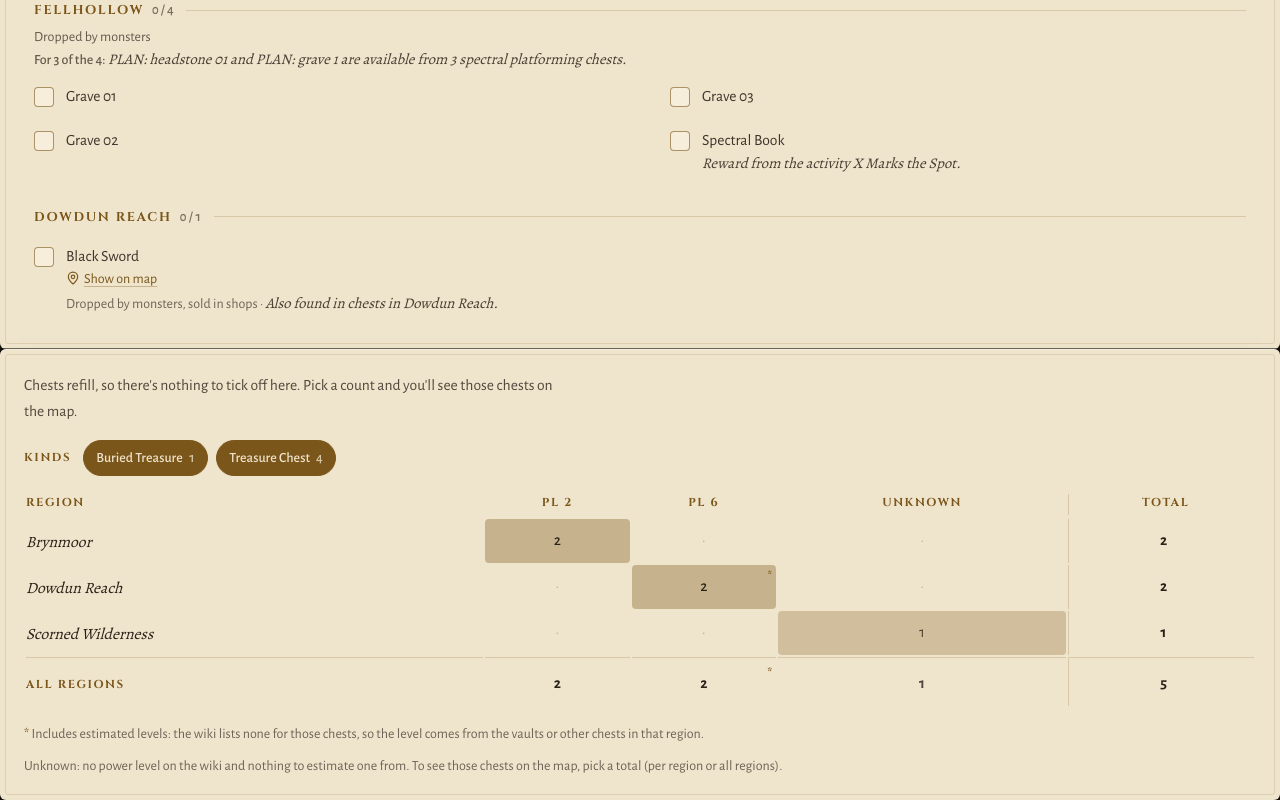
Test: ChestMatrix › counts chest points per region and power level and links to the map
(page scrolled)
// Switch Buried Treasure off: counts and links follow.
Click the button "Buried Treasure 1".
click(146, 458)  # box [83,440,208,476]
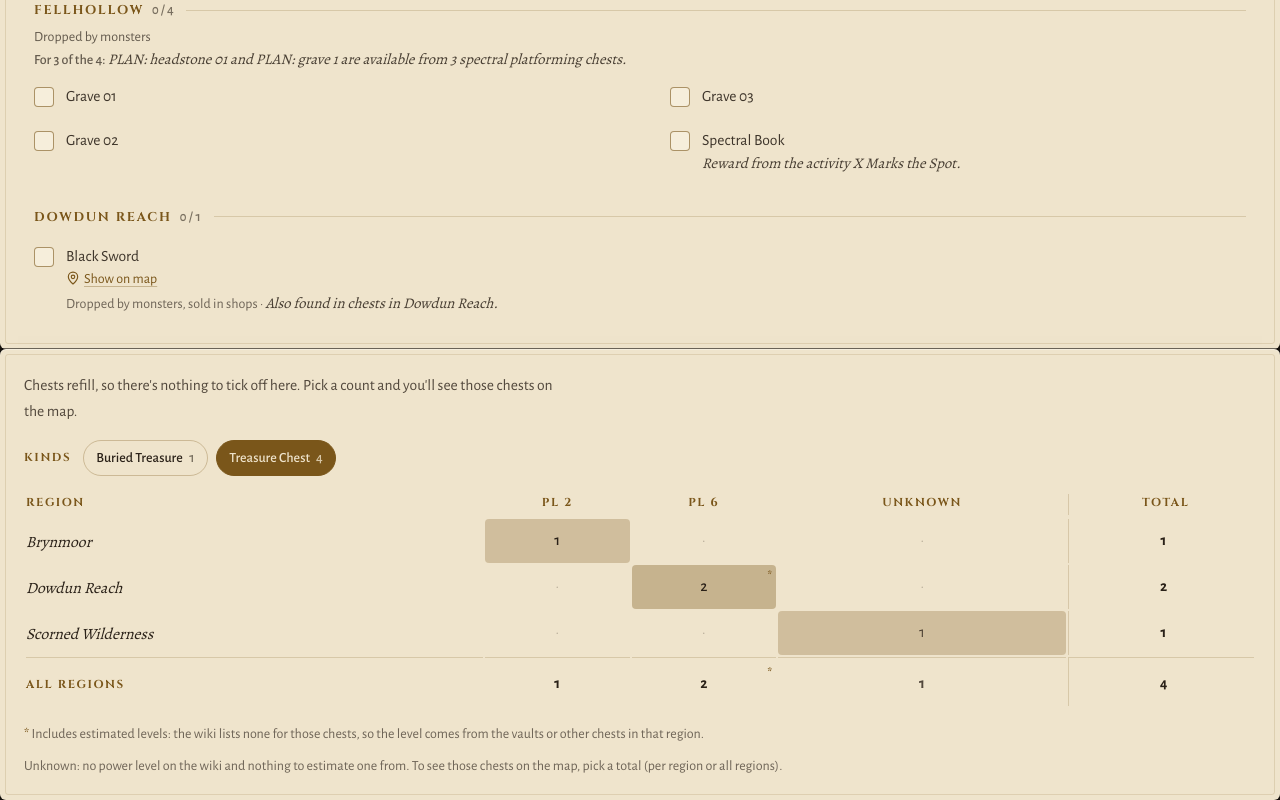
Result: the 1st cell "1" is shown at [485,519,630,563]
